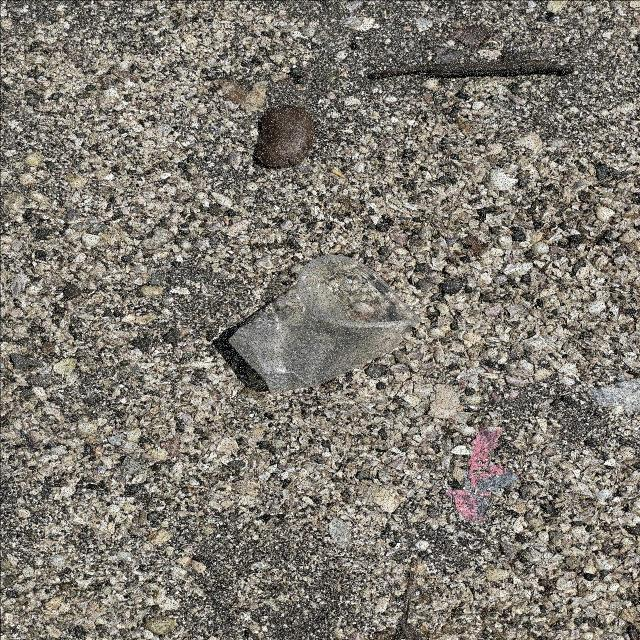plastic_waste: (227, 254, 423, 395), (466, 426, 516, 496)
